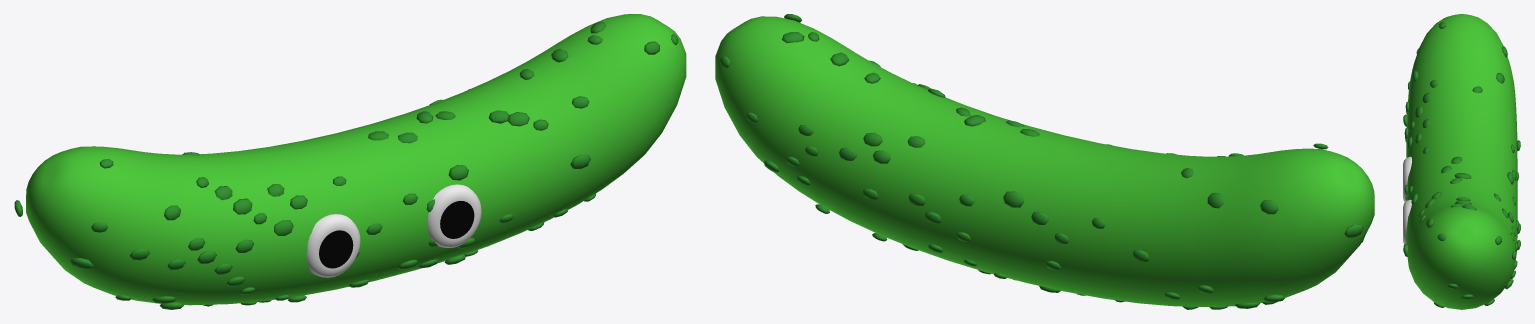
File: mainogor.fbx
3 renders of one model, left to right at view 1: azimuth 30°, elevation 25°; view 2: azimuth 150°, elevation 25°; view 3: azimuth 270°, elevation 25°, orthographic. The views are drawn at different scales.
Parts seen in each view (by area): view 1: BézierCurve.001, Cube.001, Cylinder; view 2: BézierCurve.001, Cube.001; view 3: BézierCurve.001, Cube.001, Cylinder.
Boxes of the visible parts, x1,y1,x2,y2 form: BézierCurve.001: [26, 14, 686, 305]; Cube.001: [14, 21, 678, 309]; Cylinder: [306, 184, 481, 277]; BézierCurve.001: [715, 16, 1374, 307]; Cube.001: [720, 14, 1364, 309]; BézierCurve.001: [1406, 14, 1517, 309]; Cube.001: [1403, 21, 1520, 307]; Cylinder: [1403, 156, 1411, 244].
Bounding box in the file's own units: 283 × 79.57 × 60.79.
